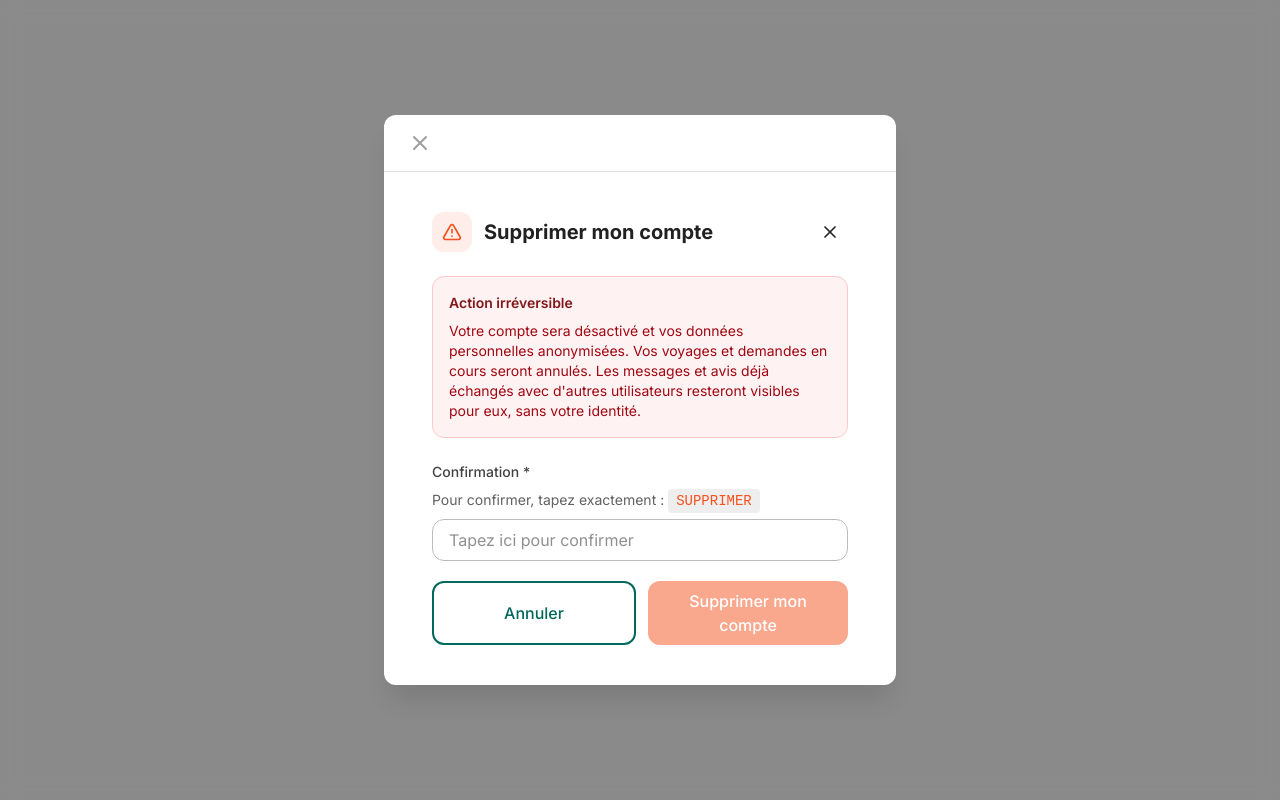
it: DeleteAccountModal - logique metier (Phase 5 RGPD) › n'exige pas de mot de passe pour un compte OAuth pur
Expected: the button "Supprimer mon compte" is disabled, [648,581,848,645]
Type "SUPPRIMER" into the field with placeholder "Tapez ici pour confirmer" at (640, 540), box [432,519,848,561]
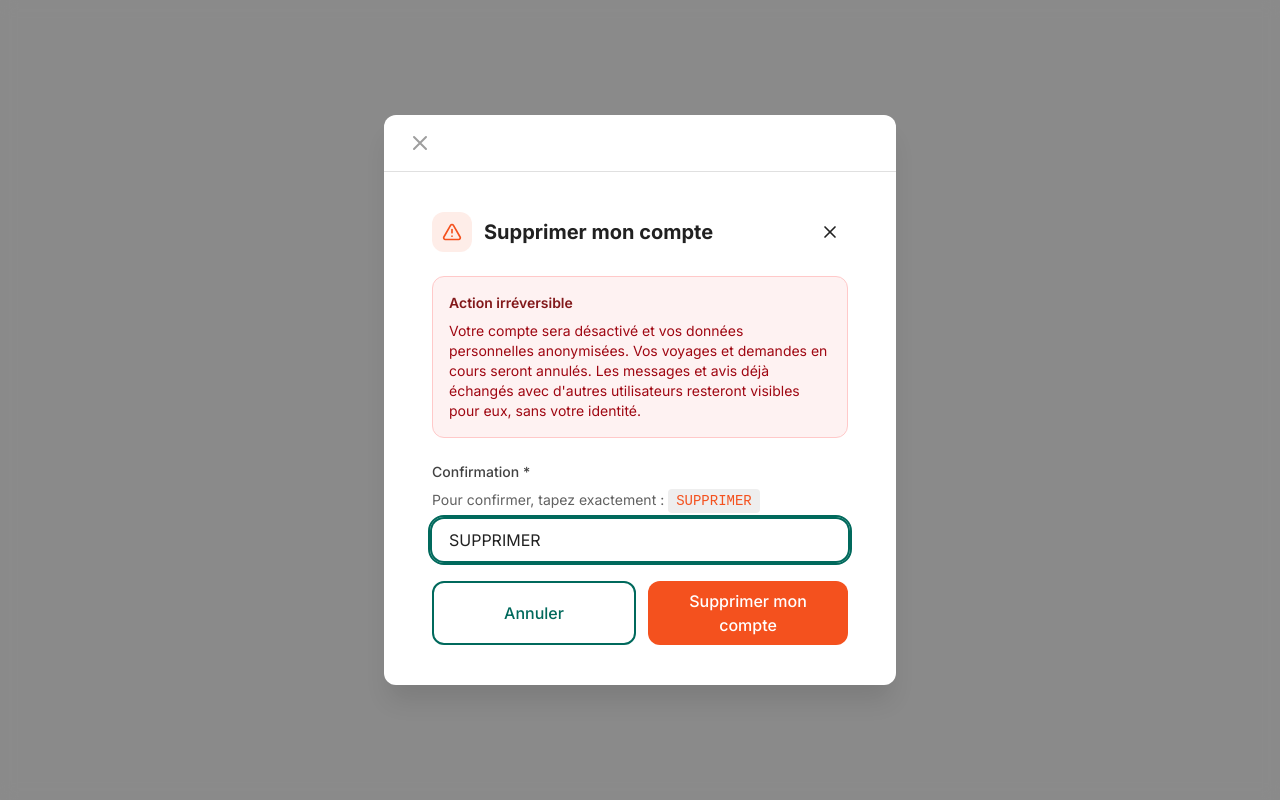
Now the button "Supprimer mon compte" is enabled, box [648,581,848,645]
